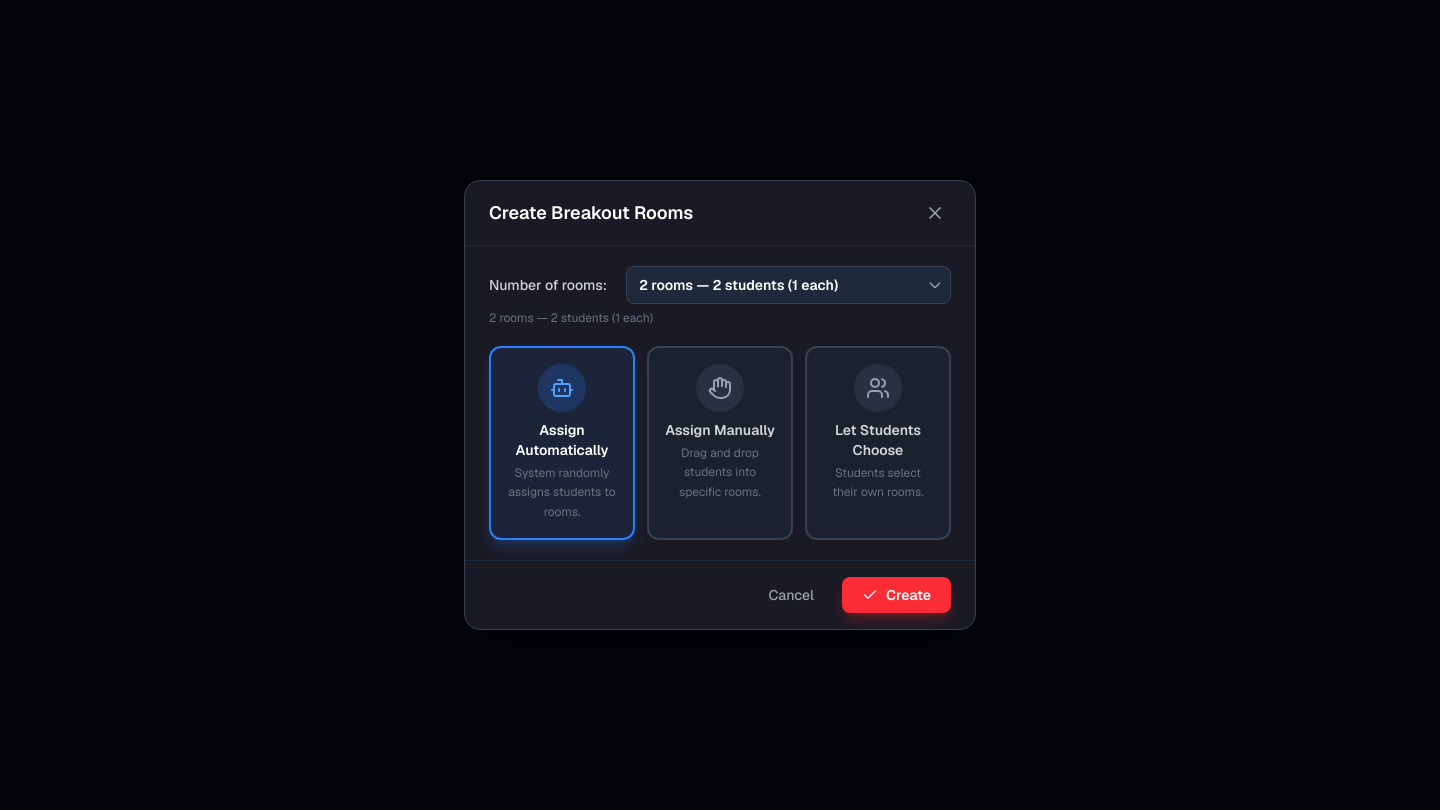
Scenario: CreateBreakoutModal — Save Allocations Deep Fix › displays error text in the UI when server returns 400
Click the button with test id "modal-create-btn": {"x": 896, "y": 595} [842,577,951,613]
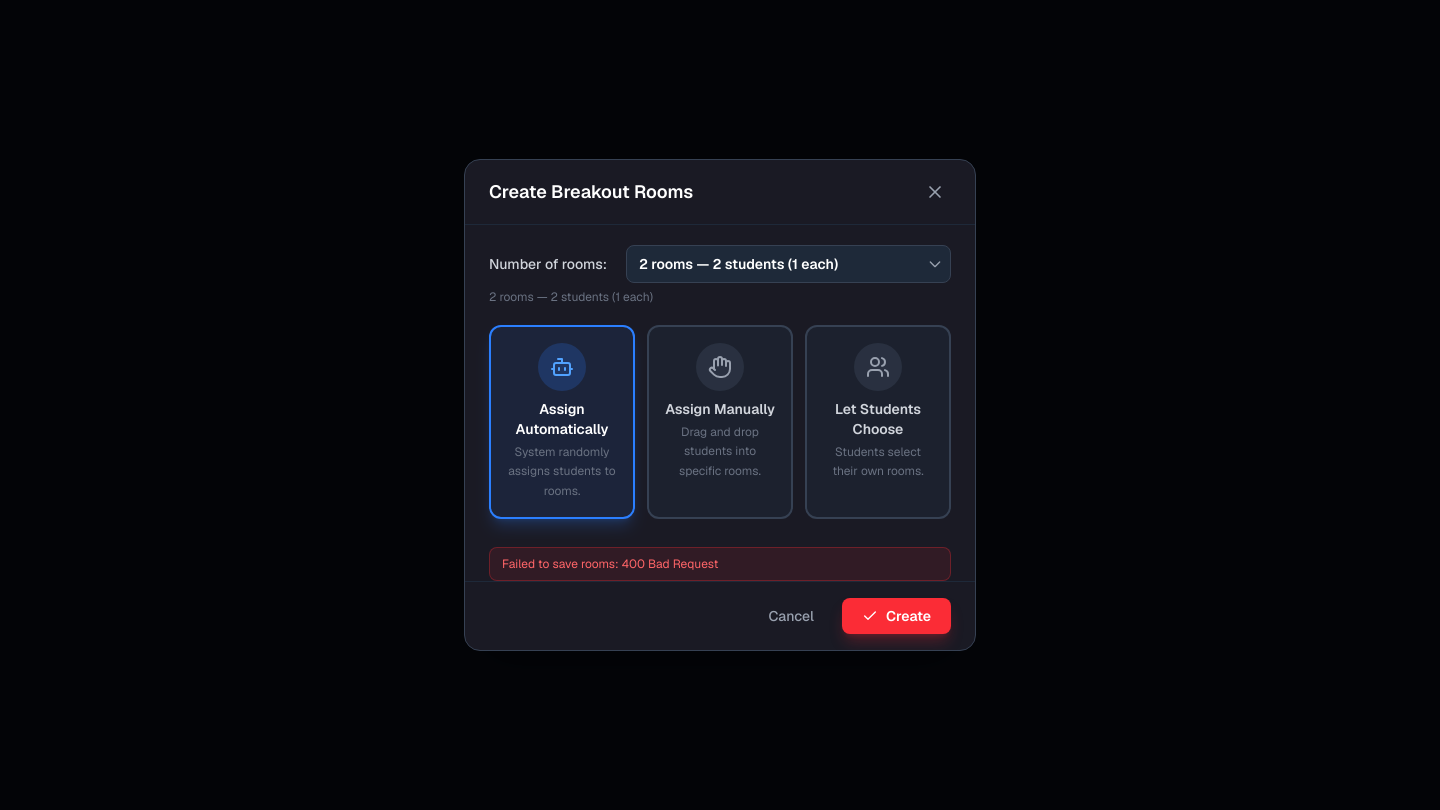
Expected: the element with test id "modal-error-msg" is shown, [465,539,975,581]
